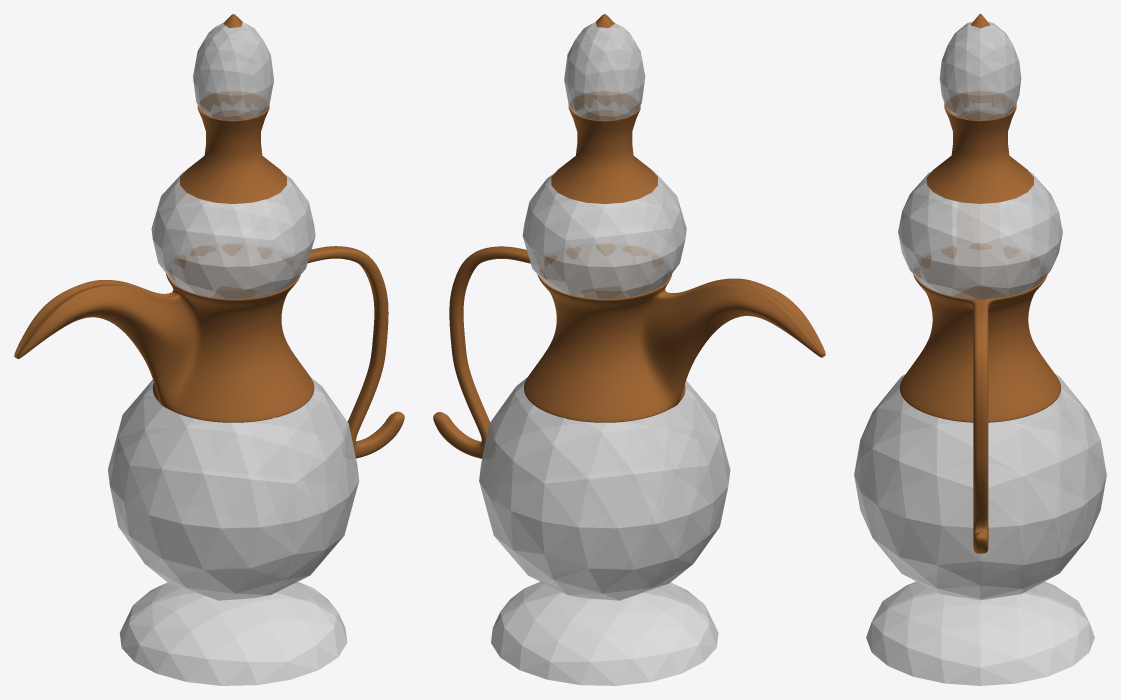
File: perfume_DAE.DAE
3 views of the same model, side by side, from view 1: azimuth 30°, elevation 25°; view 2: azimuth 150°, elevation 25°; view 3: azimuth 270°, elevation 25° (orthographic).
Parts seen in each view (by area): view 1: GeoSphere002, Cylinder001, GeoSphere001, GeoSphere003, Cylinder002, GeoSphere004; view 2: GeoSphere002, Cylinder001, GeoSphere001, GeoSphere003, Cylinder002, GeoSphere004; view 3: GeoSphere002, Cylinder001, GeoSphere001, GeoSphere003, Cylinder002, GeoSphere004.
Part boxes in pixels (box(x1,y1,x2,y2)): GeoSphere002: box(108, 377, 359, 600); Cylinder001: box(14, 244, 404, 458); GeoSphere001: box(119, 581, 347, 685); GeoSphere003: box(151, 171, 315, 298); Cylinder002: box(180, 91, 286, 203); GeoSphere004: box(193, 22, 273, 120); GeoSphere002: box(479, 377, 730, 600); Cylinder001: box(433, 244, 825, 458); GeoSphere001: box(491, 581, 718, 685); GeoSphere003: box(522, 171, 686, 298); Cylinder002: box(551, 91, 657, 203); GeoSphere004: box(564, 22, 645, 120); GeoSphere002: box(854, 374, 1106, 600); Cylinder001: box(899, 242, 1061, 553); GeoSphere001: box(866, 581, 1094, 685); GeoSphere003: box(898, 171, 1062, 299); Cylinder002: box(927, 91, 1033, 203); GeoSphere004: box(939, 21, 1021, 120).
Bounding box in the file's own units: 87.68 × 134 × 49.4.
